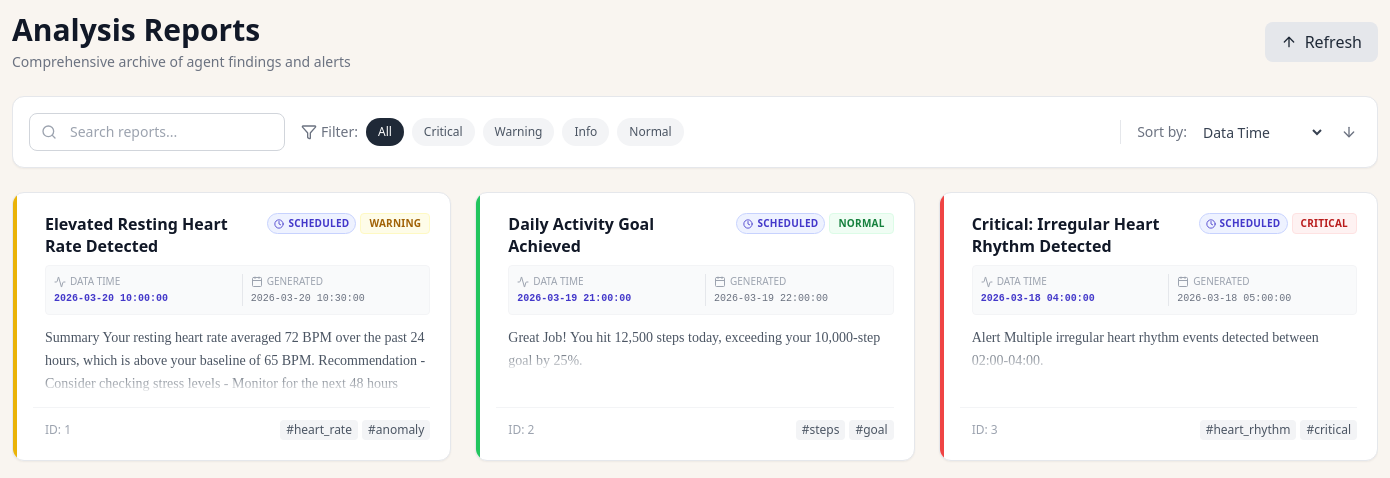
Test: ReportsView › clears search when clear button is clicked
Type "steps" into the field with placeholder "Search reports..." at (157, 132), box [29, 113, 285, 151]
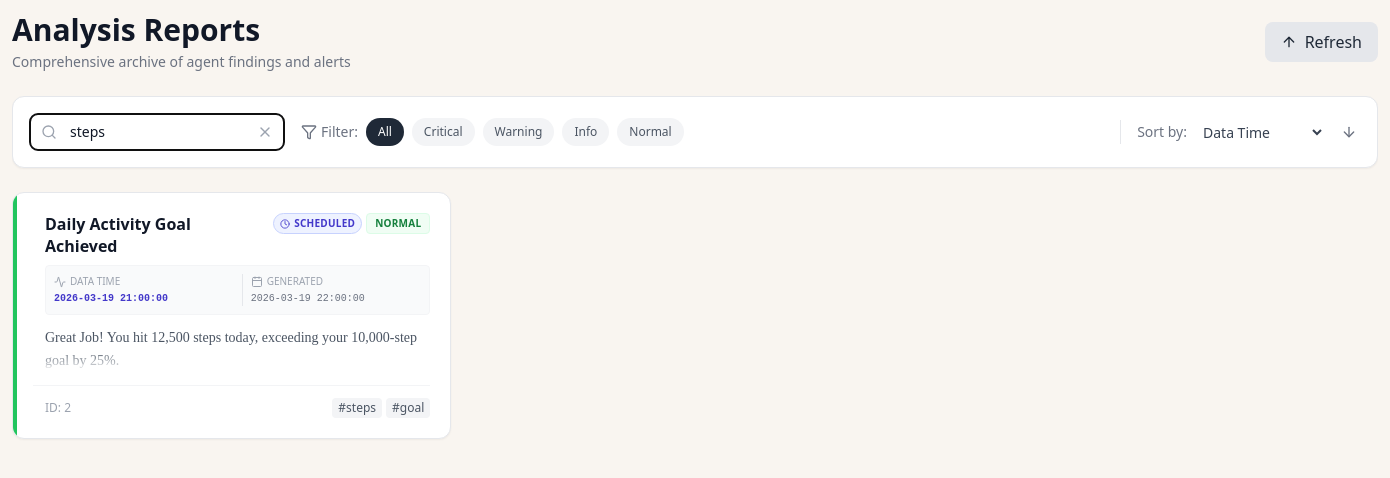
expect the heading "Elevated Resting Heart Rate Detected" is gone: met
expect the 2nd button is shown: met
Click the 2nd button at (271, 132), box [257, 113, 285, 151]
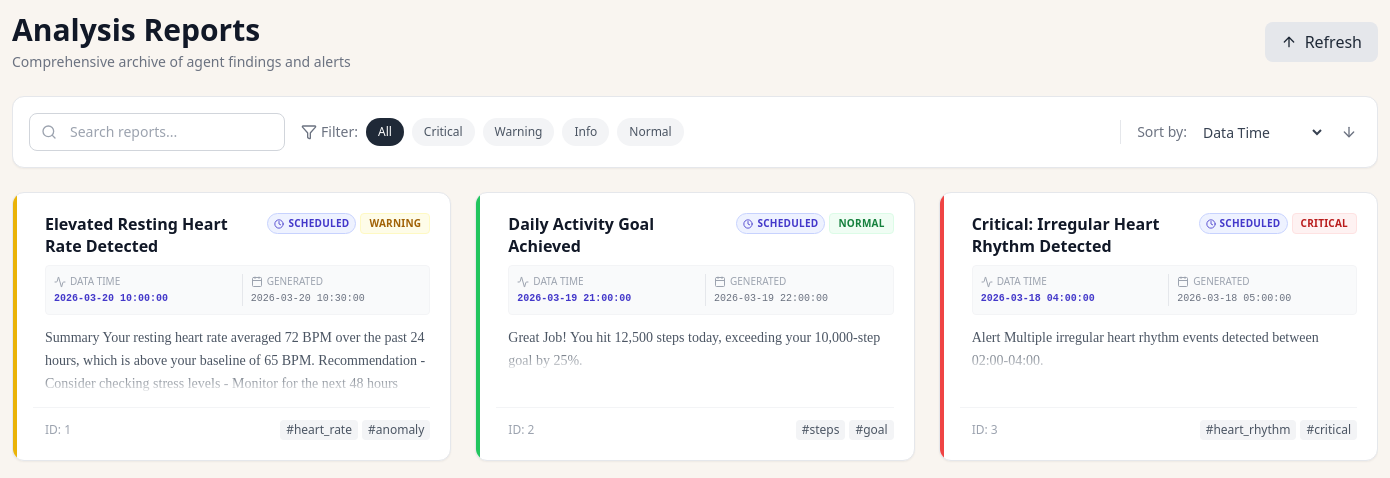
expect the heading "Elevated Resting Heart Rate Detected" is shown: met, box [45, 213, 259, 257]
